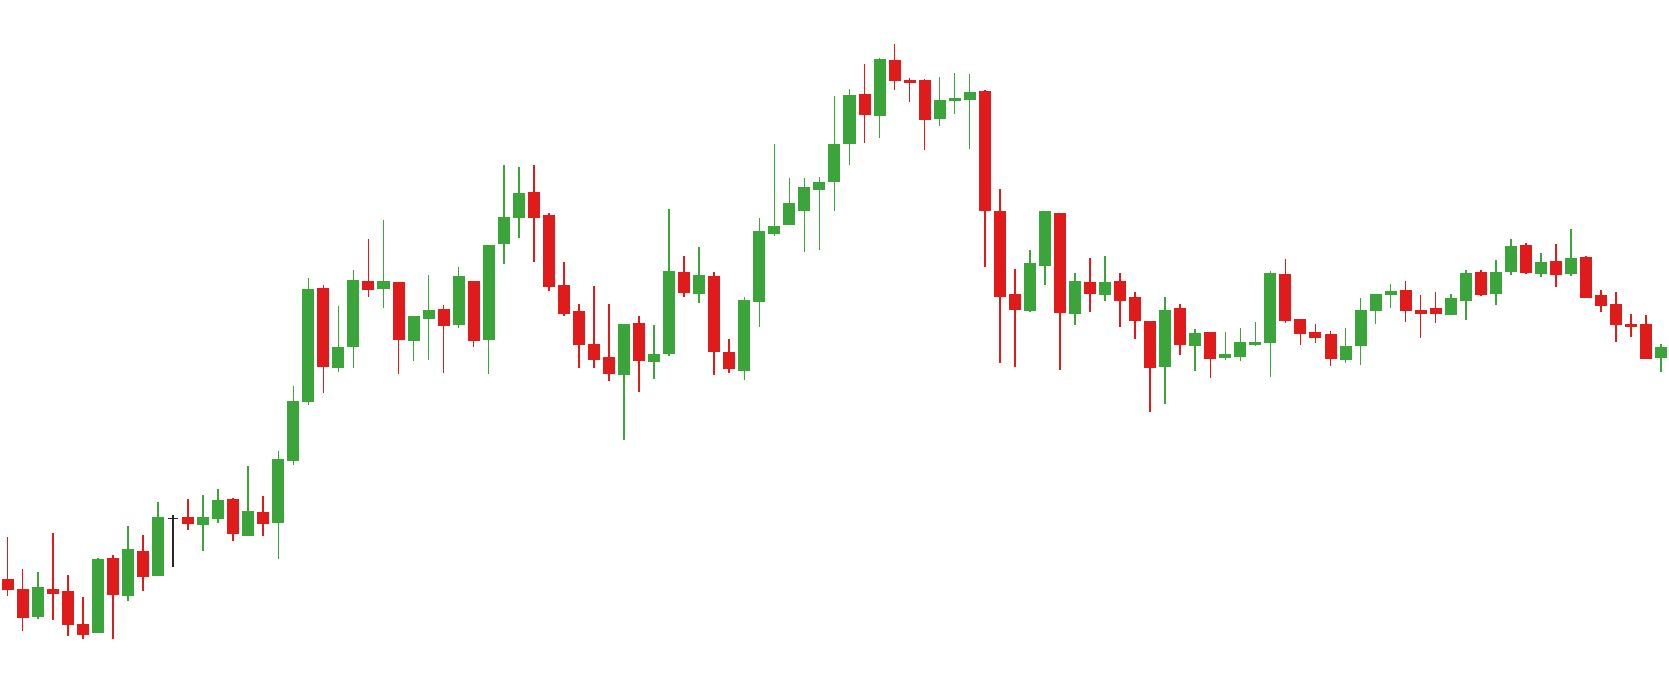buy: (424, 250, 634, 444)
